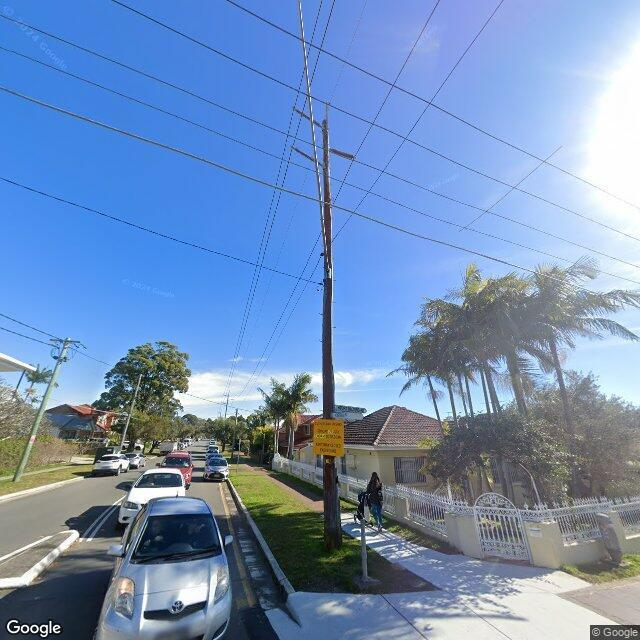HV-transmission: (293, 102, 356, 170)
crossarm: (50, 339, 80, 344)
timber-pole: (12, 338, 71, 484), (322, 119, 341, 559), (118, 374, 143, 453), (232, 408, 238, 459)
